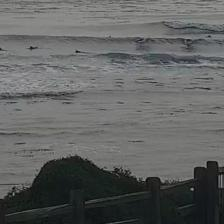surfer: (28, 46, 38, 50), (0, 48, 7, 52), (74, 50, 82, 53), (206, 35, 212, 37), (109, 35, 111, 37)
